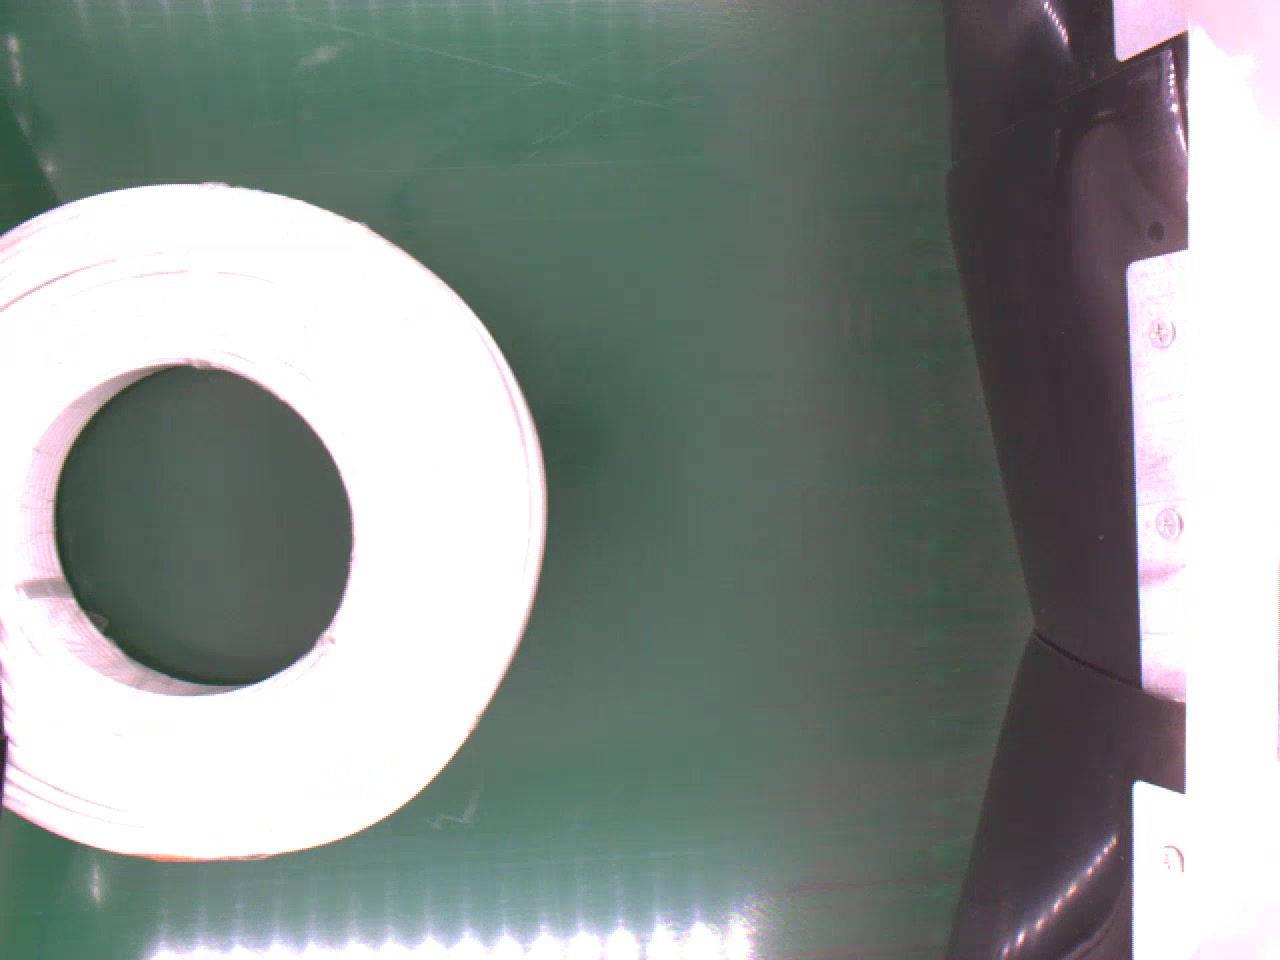white: (0, 179, 549, 862)
